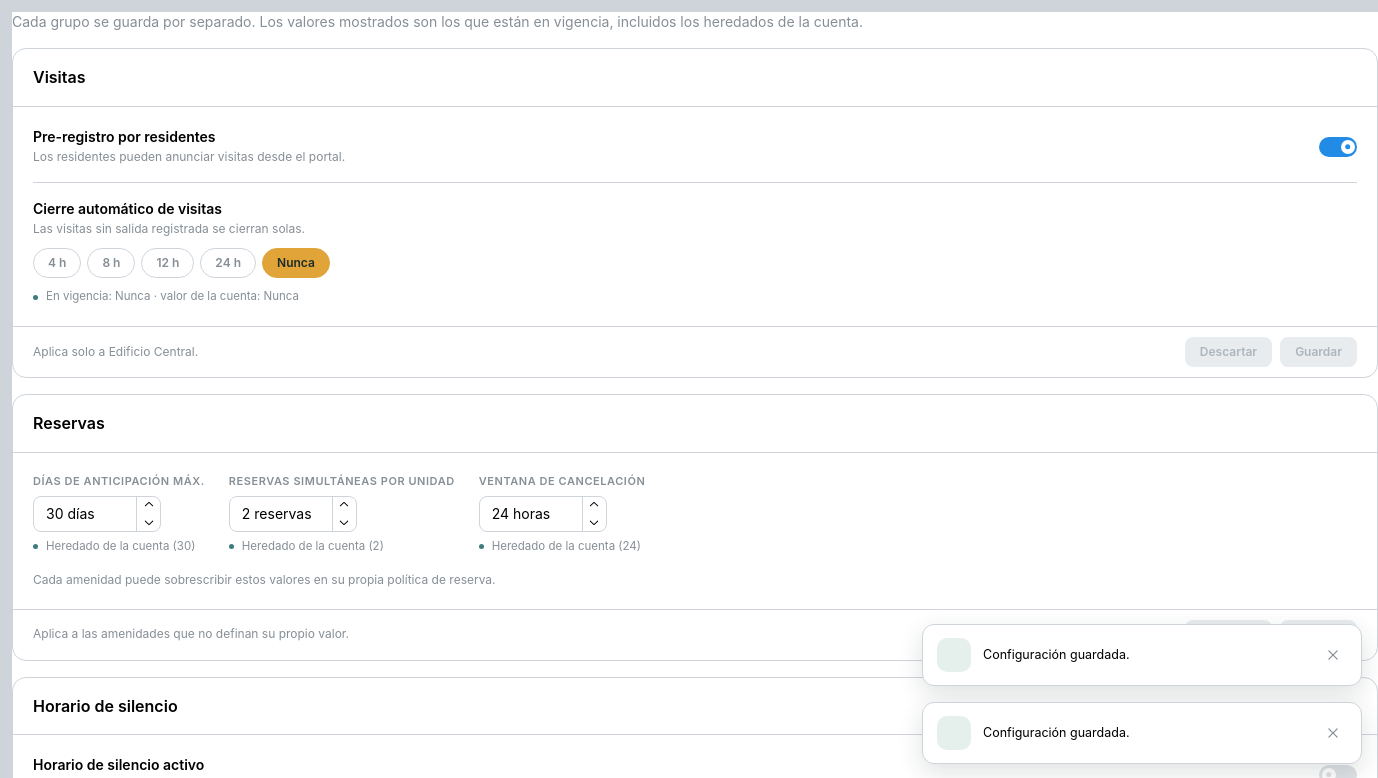
OperationalSettingsPanel › discard resets a group without touching another
This screenshot has width=1378, height=778.
Expected: the text "Visitas" is shown, [33, 67, 86, 87]
Click the button "8 h" at (111, 263), box [87, 248, 136, 278]
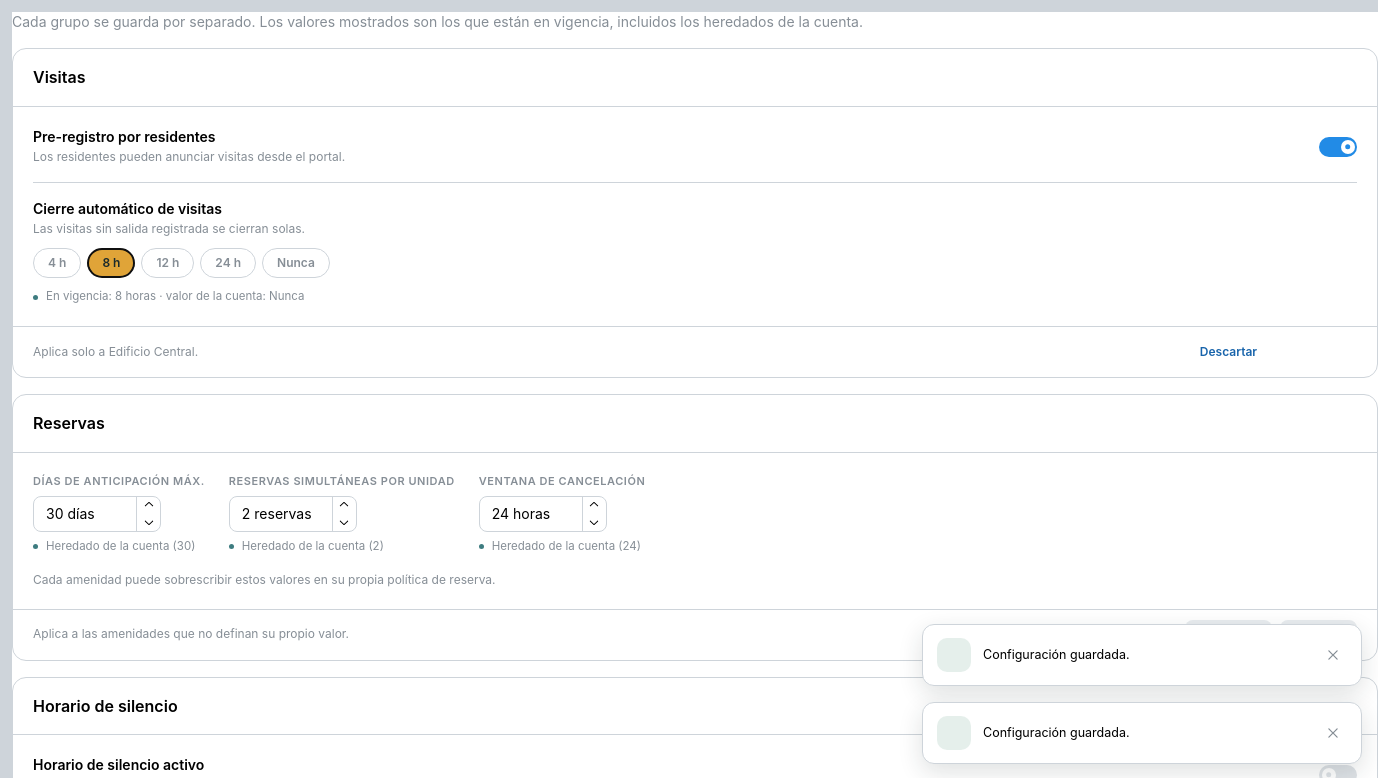
Click the button "Descartar" at (1228, 352), box [1185, 337, 1272, 367]
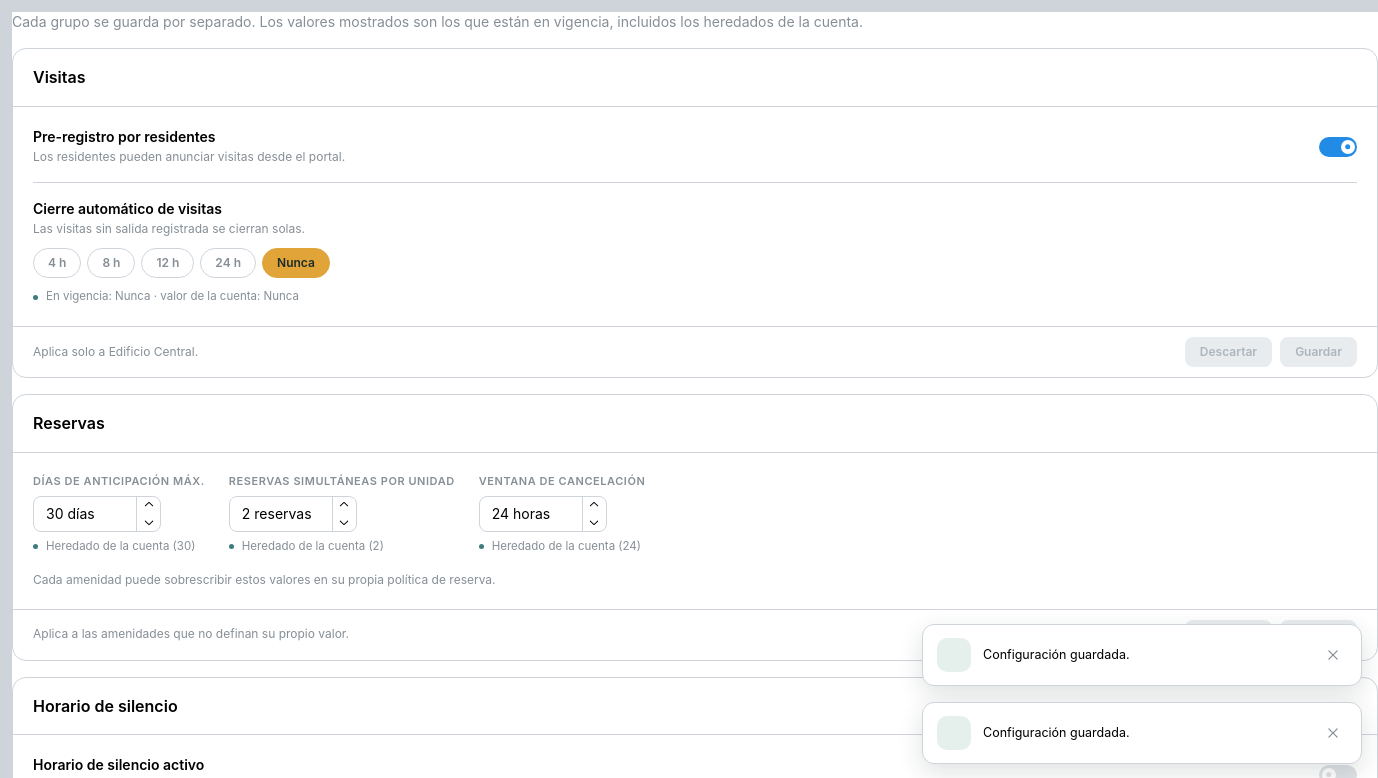
Now the button "Guardar" is disabled, box [1280, 337, 1357, 367]
